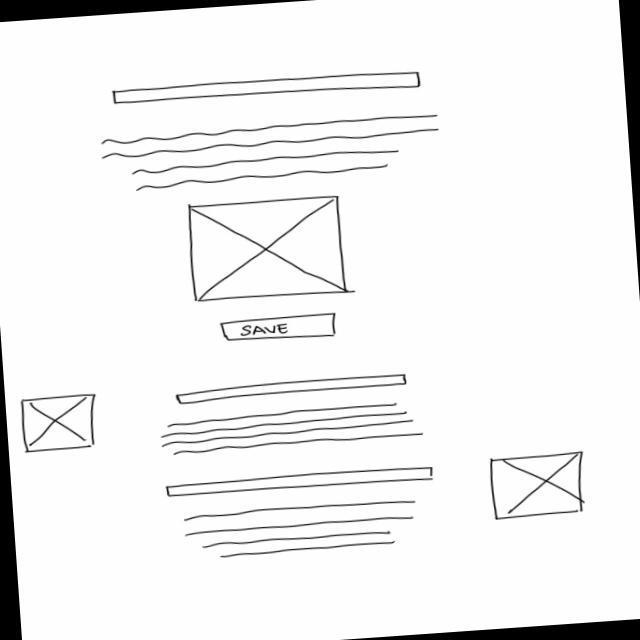image: (185, 193, 352, 306), (488, 450, 590, 523), (19, 393, 102, 455)
input: (111, 67, 422, 109), (165, 465, 436, 502), (175, 372, 411, 406)
textbox: (98, 113, 446, 196), (179, 496, 423, 565), (157, 400, 426, 459)
